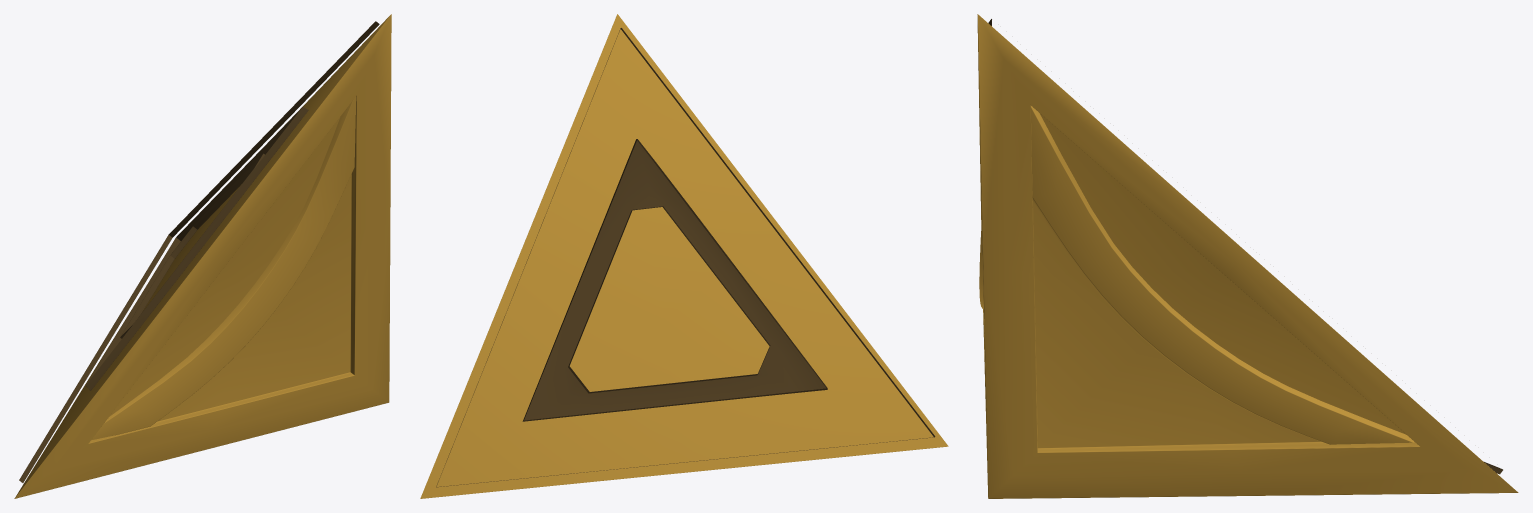
File: Holocron_Esquina_InfDerFre.obj
3 views of the same model, side by side, from view 1: azimuth 30°, elevation 25°; view 2: azimuth 150°, elevation 25°; view 3: azimuth 270°, elevation 25° (orthographic). The views are drawn at different scales.
Parts seen in each view (by area): view 1: Holocron_Esquina_InfDerFre; view 2: Holocron_Esquina_InfDerFre; view 3: Holocron_Esquina_InfDerFre.
Part boxes in pixels (box(x1,y1,x2,y2)): Holocron_Esquina_InfDerFre: box(14, 14, 391, 498); Holocron_Esquina_InfDerFre: box(420, 14, 948, 498); Holocron_Esquina_InfDerFre: box(977, 14, 1518, 498).
Bounding box in the file's own units: 5.17 × 5.15 × 5.19.
